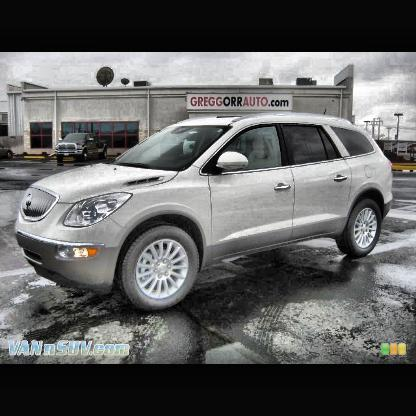Buick Enclave SUV 2012: (16, 113, 396, 312)
